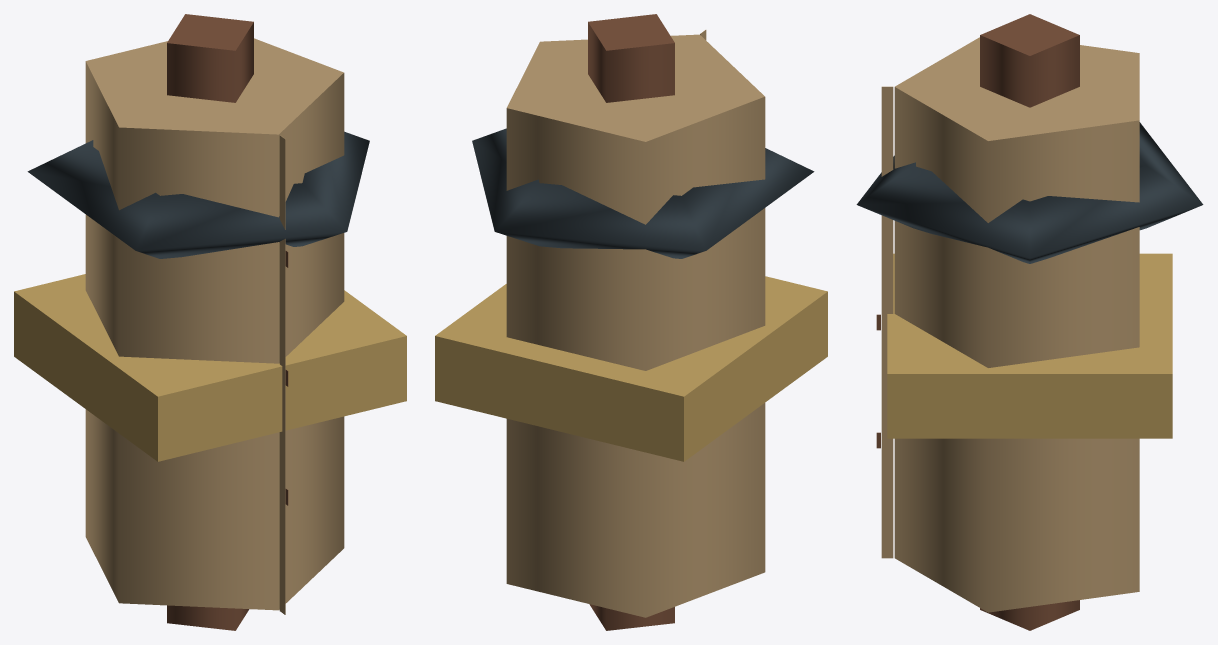
The model's file is scroll-4-lod2.glb.
The picture shows the model from 3 angles, left to right: view 1: azimuth 30°, elevation 25°; view 2: azimuth 150°, elevation 25°; view 3: azimuth 270°, elevation 25°; orthographic projection.
Parts seen in each view (by area): view 1: piece_whole, ReadingSheet; view 2: piece_whole; view 3: piece_whole, ReadingSheet.
Part boxes in pixels (x1,y1,x2,y2): piece_whole: [14, 14, 406, 630]; ReadingSheet: [279, 135, 288, 614]; piece_whole: [435, 14, 827, 630]; piece_whole: [856, 14, 1203, 630]; ReadingSheet: [876, 86, 893, 558].
Bounding box in the file's own units: 0.2316 × 0.445 × 0.2435.
